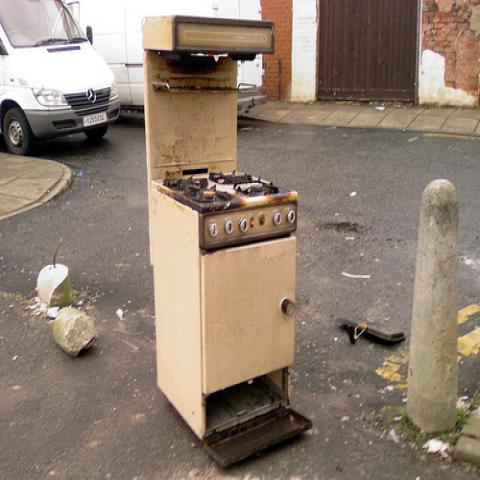car: (0, 0, 120, 156)
truck: (64, 1, 268, 120)
